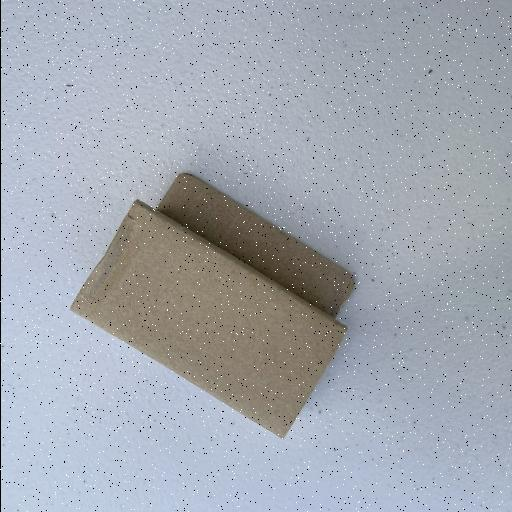Cardboard: (68, 172, 356, 440)
